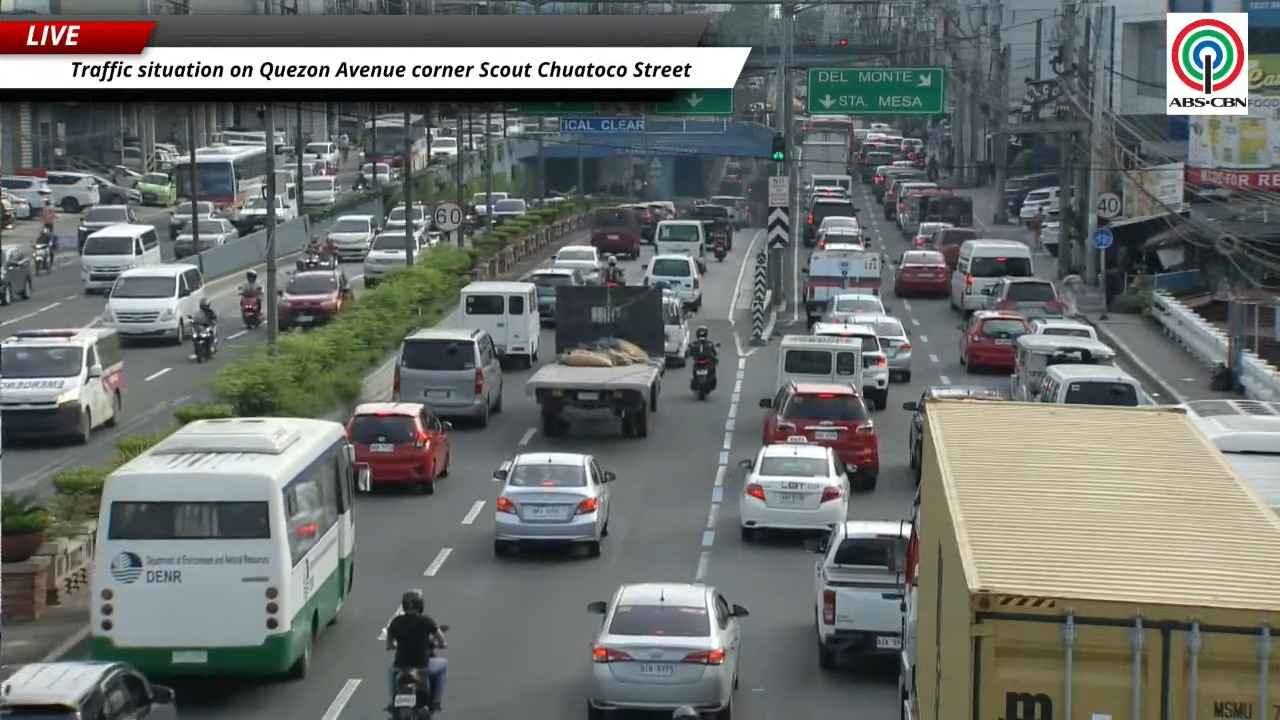bus: (91, 417, 369, 676), (173, 146, 267, 209), (363, 115, 428, 171), (210, 128, 266, 146), (366, 112, 404, 126)
car: (587, 582, 748, 719), (760, 382, 879, 488), (494, 452, 614, 556), (392, 327, 503, 426), (740, 442, 849, 541), (0, 661, 177, 719), (903, 386, 1007, 484), (346, 402, 451, 494), (811, 313, 890, 409), (278, 270, 351, 330), (959, 311, 1030, 371), (852, 314, 911, 381), (522, 267, 586, 325), (642, 254, 702, 311), (982, 277, 1065, 317), (589, 206, 648, 258), (363, 223, 408, 288), (803, 196, 857, 246), (894, 250, 950, 297), (77, 204, 137, 247), (174, 218, 238, 258), (40, 171, 101, 212), (325, 215, 380, 260), (823, 292, 887, 323), (0, 175, 52, 213), (930, 228, 979, 268), (551, 245, 601, 283), (0, 246, 32, 305), (872, 166, 923, 203), (169, 202, 219, 239), (89, 175, 141, 203), (231, 197, 270, 234), (1019, 186, 1059, 222), (134, 172, 176, 206), (625, 203, 661, 242), (708, 196, 748, 229), (1031, 319, 1097, 339), (816, 226, 866, 251), (912, 222, 951, 248), (492, 198, 528, 224), (0, 192, 34, 219), (360, 162, 398, 185), (411, 224, 439, 249), (818, 216, 859, 233), (408, 203, 431, 227)
motorcycle: (389, 668, 431, 719), (390, 669, 431, 719), (690, 343, 719, 401), (191, 320, 216, 362), (691, 358, 713, 400), (240, 292, 261, 329), (302, 252, 337, 270), (33, 244, 52, 274), (602, 268, 625, 287), (713, 236, 727, 261), (352, 174, 370, 191)
truck: (900, 399, 1279, 719), (526, 286, 665, 437), (806, 520, 908, 669), (802, 249, 882, 325)
